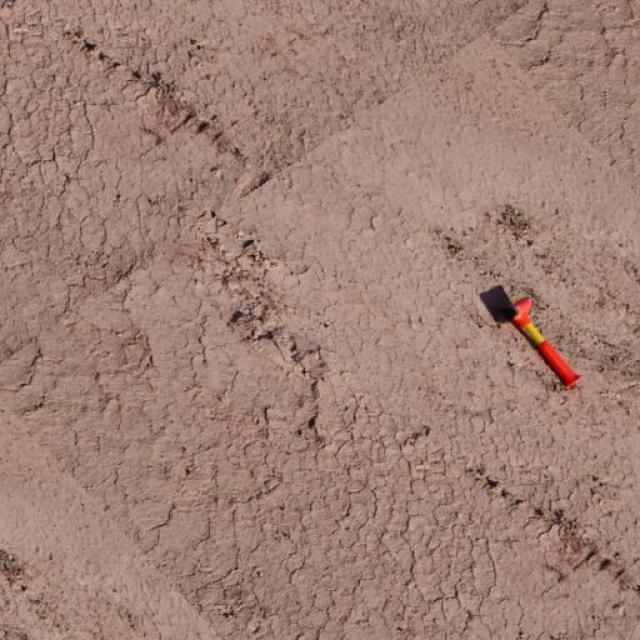mallet: (499, 296, 582, 389)
